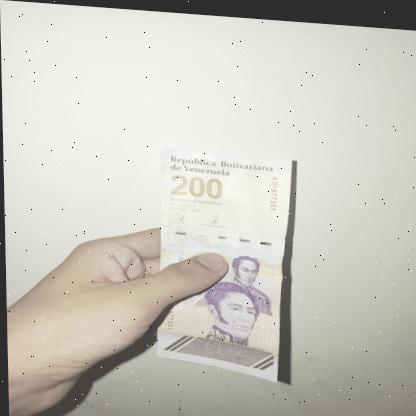two_hundred-front-vef: (150, 144, 297, 380)
